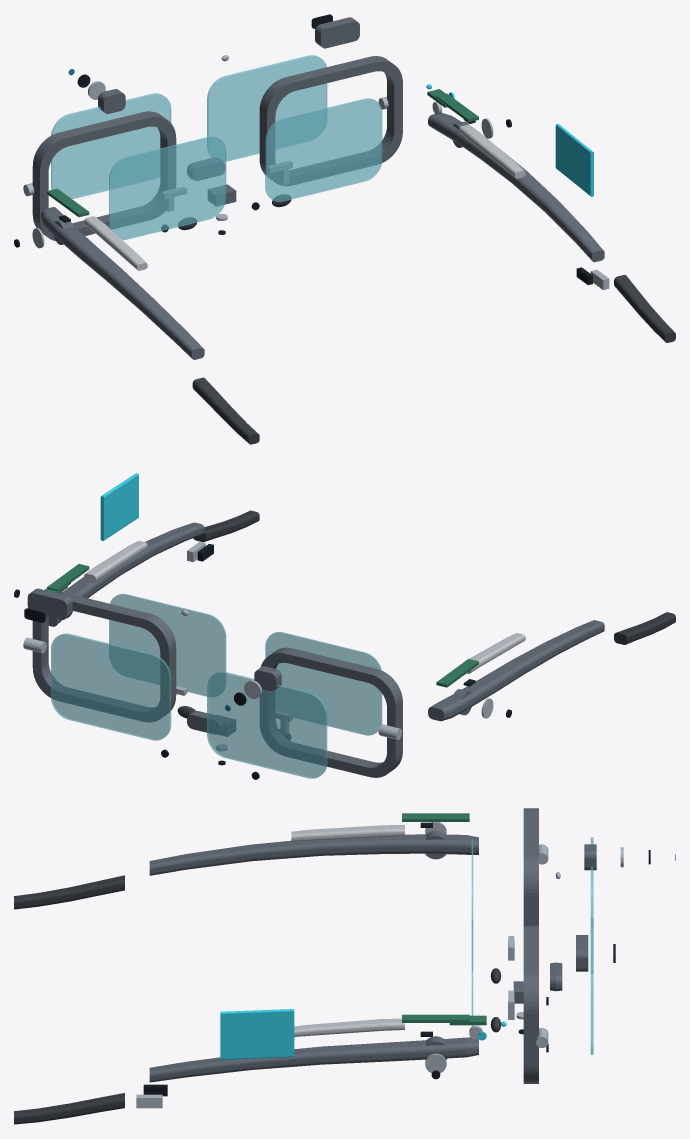
File: SIGNLINK_Connect_Exploded.glb
3 renders of one model, top to bottom at view 1: azimuth 30°, elevation 25°; view 2: azimuth 150°, elevation 25°; view 3: azimuth 270°, elevation 25°, orthographic. The views are drawn at different scales.
Visible parts, largest first — view 1: 23 | Right AR Waveguide / Combiner, 22 | Left AR Waveguide / Combiner, 06 | Right Optical Lens, 02 | Left Optical Lens, 05 | Right Front Frame Rim, 01 | Left Front Frame Rim, 10 | Left Temple Arm, 16 | Right Temple Arm, 48 | Right Temple Communication Control Strip, 11 | Left Temple Tip / Earpiece, 17 | Right Temple Tip / Earpiece, 24 | AR Microdisplay Projector Housing (+3 smaller); view 2: 06 | Right Optical Lens, 02 | Left Optical Lens, 23 | Right AR Waveguide / Combiner, 22 | Left AR Waveguide / Combiner, 01 | Left Front Frame Rim, 05 | Right Front Frame Rim, 10 | Left Temple Arm, 16 | Right Temple Arm, 48 | Right Temple Communication Control Strip, 24 | AR Microdisplay Projector Housing, 11 | Left Temple Tip / Earpiece, 17 | Right Temple Tip / Earpiece (+5 smaller); view 3: 10 | Left Temple Arm, 16 | Right Temple Arm, 48 | Right Temple Communication Control Strip, 05 | Right Front Frame Rim, 01 | Left Front Frame Rim, 17 | Right Temple Tip / Earpiece, 11 | Left Temple Tip / Earpiece, 12 | Left Rechargeable Battery Cell, 18 | Right Rechargeable Battery Cell, 13 | Left Control PCB, 19 | Right Control PCB, 06 | Right Optical Lens (+1 smaller).
Part boxes in pixels (left/top/right/bottom): 23 | Right AR Waveguide / Combiner: left=265, top=98, right=382, bottom=201; 22 | Left AR Waveguide / Combiner: left=109, top=136, right=226, bottom=239; 06 | Right Optical Lens: left=207, top=55, right=327, bottom=161; 02 | Left Optical Lens: left=51, top=93, right=171, bottom=199; 05 | Right Front Frame Rim: left=259, top=56, right=402, bottom=185; 01 | Left Front Frame Rim: left=32, top=111, right=176, bottom=240; 10 | Left Temple Arm: left=41, top=207, right=204, bottom=359; 16 | Right Temple Arm: left=428, top=113, right=604, bottom=262; 48 | Right Temple Communication Control Strip: left=555, top=123, right=593, bottom=196; 11 | Left Temple Tip / Earpiece: left=192, top=377, right=259, bottom=444; 17 | Right Temple Tip / Earpiece: left=614, top=275, right=675, bottom=342; 24 | AR Microdisplay Projector Housing: left=315, top=17, right=359, bottom=48; 06 | Right Optical Lens: left=51, top=633, right=171, bottom=740; 02 | Left Optical Lens: left=207, top=671, right=327, bottom=778; 23 | Right AR Waveguide / Combiner: left=109, top=593, right=226, bottom=696; 22 | Left AR Waveguide / Combiner: left=265, top=632, right=382, bottom=735; 01 | Left Front Frame Rim: left=260, top=647, right=402, bottom=777; 05 | Right Front Frame Rim: left=32, top=592, right=176, bottom=722; 10 | Left Temple Arm: left=428, top=620, right=604, bottom=721; 16 | Right Temple Arm: left=48, top=522, right=204, bottom=626; 48 | Right Temple Communication Control Strip: left=100, top=473, right=138, bottom=540; 24 | AR Microdisplay Projector Housing: left=27, top=588, right=72, bottom=619; 11 | Left Temple Tip / Earpiece: left=614, top=612, right=675, bottom=644; 17 | Right Temple Tip / Earpiece: left=193, top=510, right=259, bottom=542; 10 | Left Temple Arm: left=149, top=834, right=478, bottom=875; 16 | Right Temple Arm: left=149, top=1037, right=478, bottom=1082; 48 | Right Temple Communication Control Strip: left=220, top=1009, right=294, bottom=1059; 05 | Right Front Frame Rim: left=523, top=925, right=538, bottom=1083; 01 | Left Front Frame Rim: left=523, top=808, right=538, bottom=925; 17 | Right Temple Tip / Earpiece: left=14, top=1093, right=124, bottom=1124; 11 | Left Temple Tip / Earpiece: left=14, top=875, right=124, bottom=909; 12 | Left Rechargeable Battery Cell: left=291, top=825, right=404, bottom=841; 18 | Right Rechargeable Battery Cell: left=294, top=1018, right=404, bottom=1036; 13 | Left Control PCB: left=402, top=813, right=469, bottom=821; 19 | Right Control PCB: left=402, top=1014, right=469, bottom=1022; 06 | Right Optical Lens: left=590, top=918, right=593, bottom=1054.
Bounding box in the file's own units: 0.196 × 0.061 × 0.2149.
